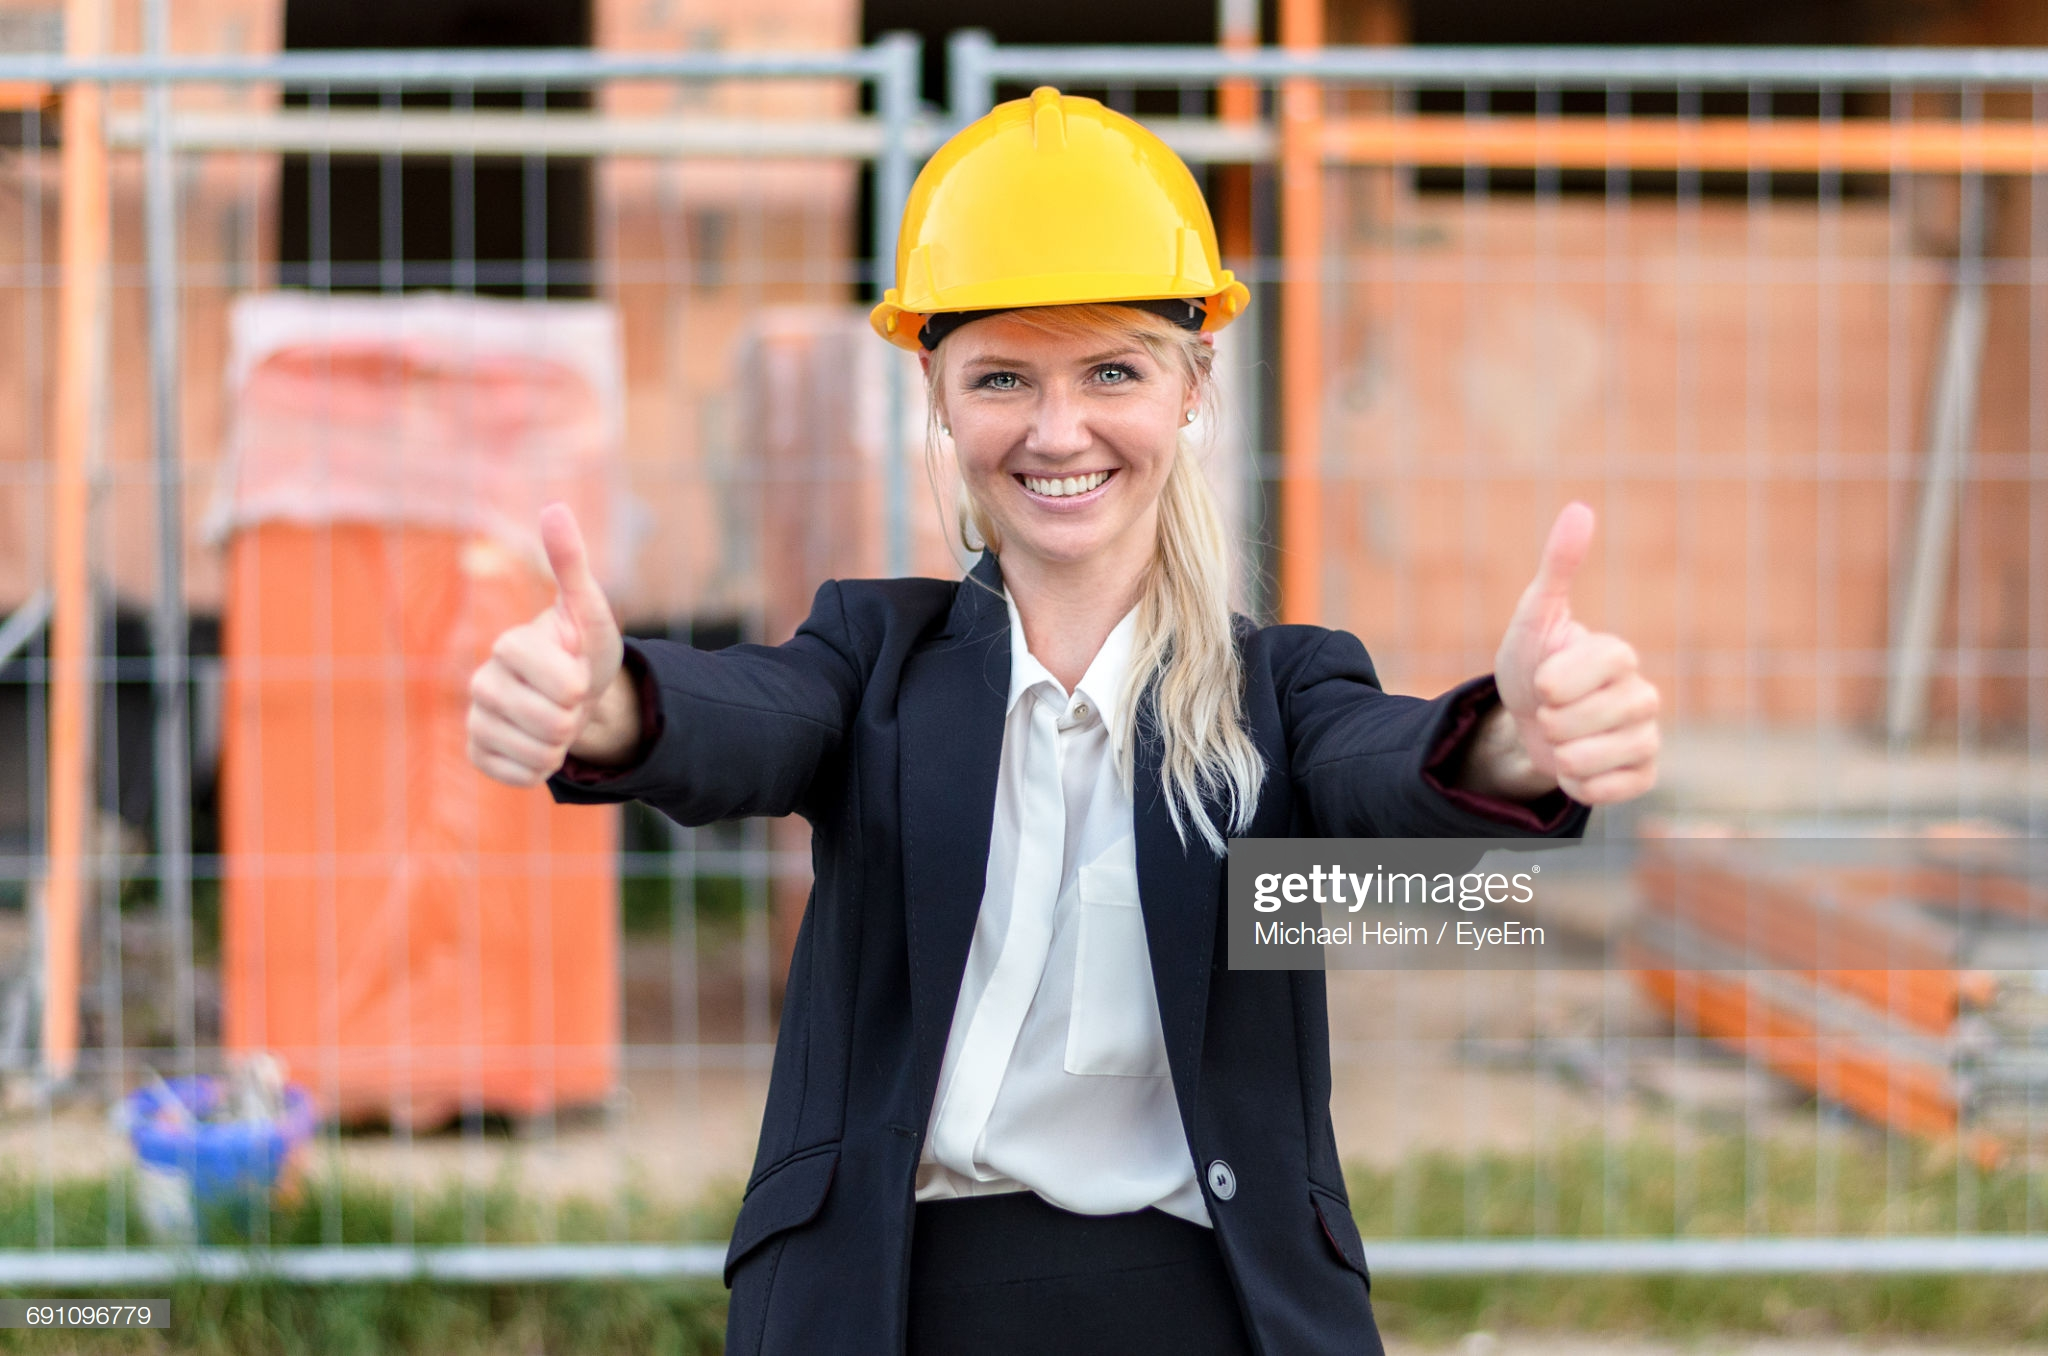thumbsup: (1519, 502, 1662, 805), (464, 501, 597, 784)
